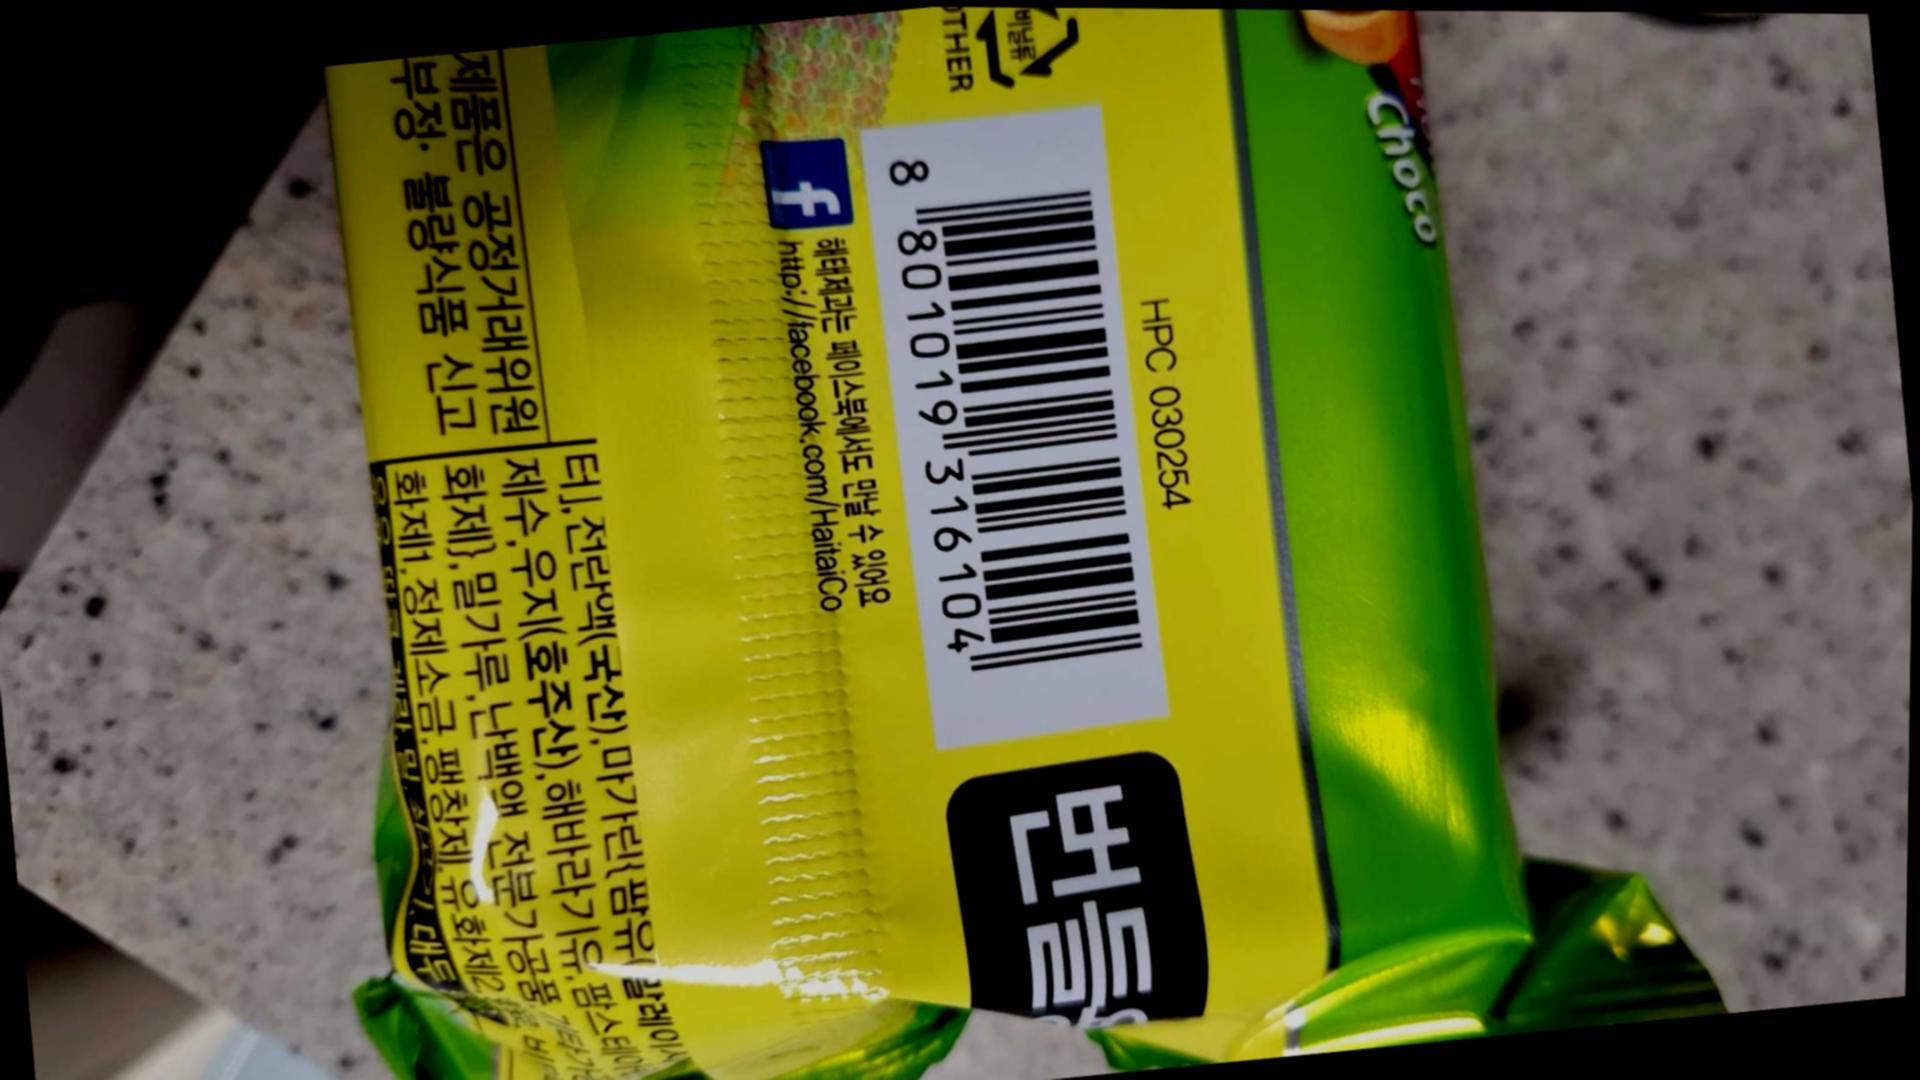cow-12000-2024-8-30: (881, 133, 1150, 691)
